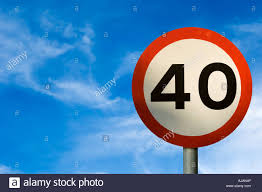Speed_limit_40km: (132, 27, 252, 145)
